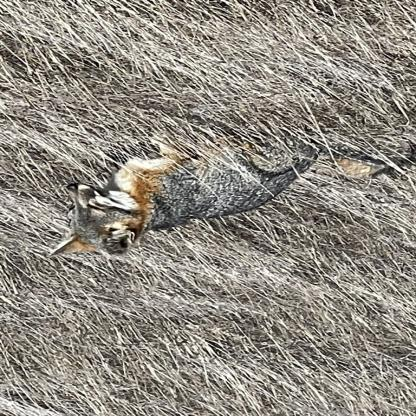zorro: (43, 115, 415, 265)
